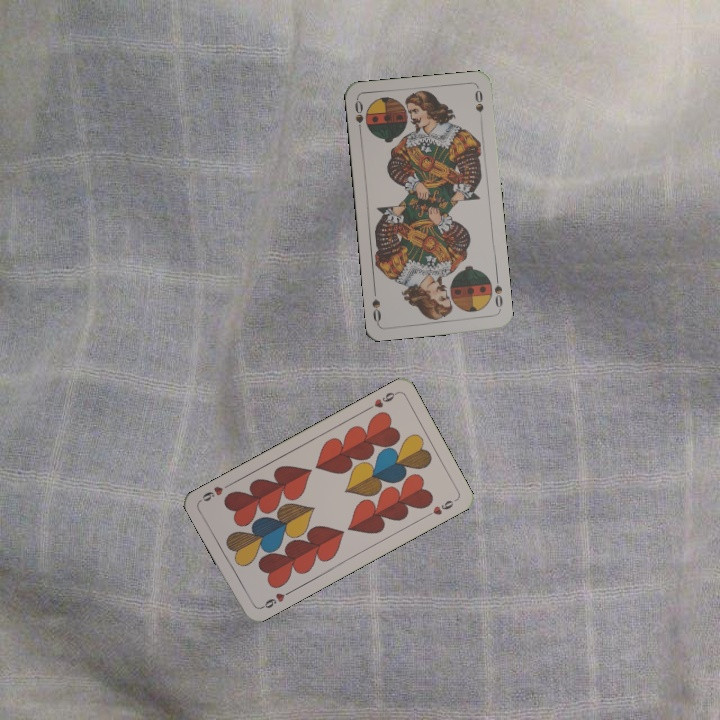H9: (362, 388, 400, 413), (256, 587, 294, 612)
SO: (351, 96, 366, 137), (490, 273, 505, 314)
